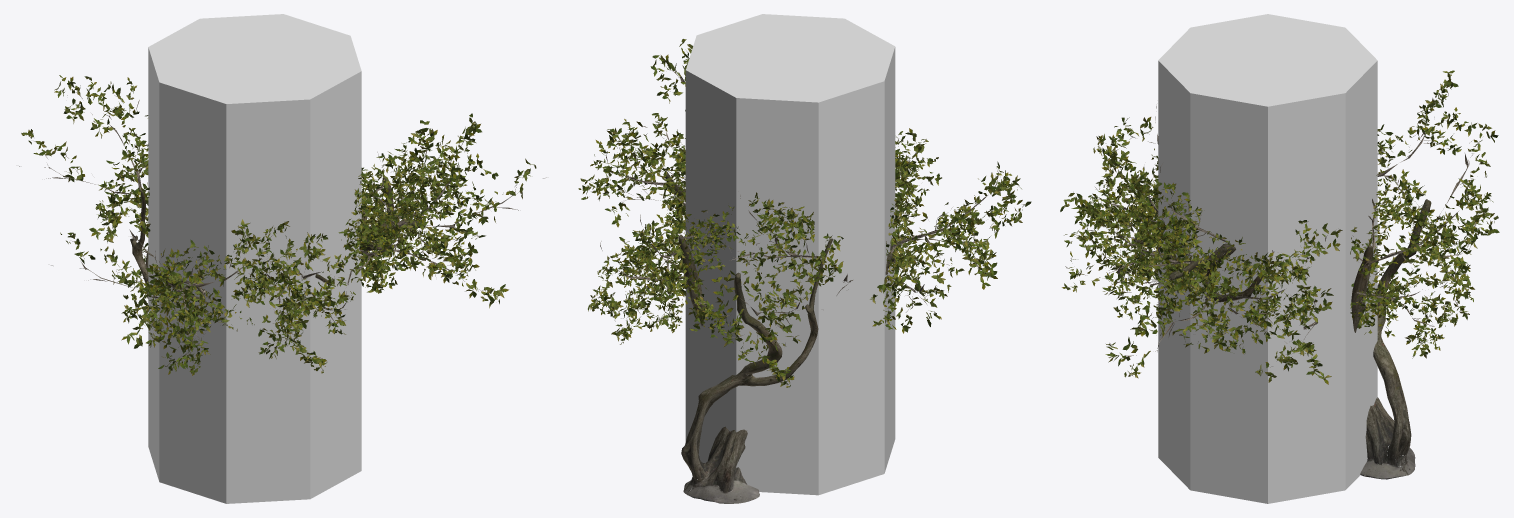
The model's file is ph_island_tree_02.glb.
The picture shows the model from 3 angles, left to right: view 1: azimuth 30°, elevation 25°; view 2: azimuth 150°, elevation 25°; view 3: azimuth 270°, elevation 25°; orthographic projection.
Visible parts, largest first — view 1: ph_island_tree_02_col, ph_island_tree_02; view 2: ph_island_tree_02_col, ph_island_tree_02; view 3: ph_island_tree_02_col, ph_island_tree_02.
Part boxes in pixels (x1,y1,x2,y2): ph_island_tree_02_col: (148, 14, 361, 503); ph_island_tree_02: (19, 75, 546, 375); ph_island_tree_02_col: (685, 14, 895, 495); ph_island_tree_02: (578, 39, 1031, 503); ph_island_tree_02_col: (1158, 14, 1377, 503); ph_island_tree_02: (1060, 70, 1499, 479).
Size of the model in its own units: 4.12 by 4 by 4.01.
Materials: 3 (3 with a texture image).
